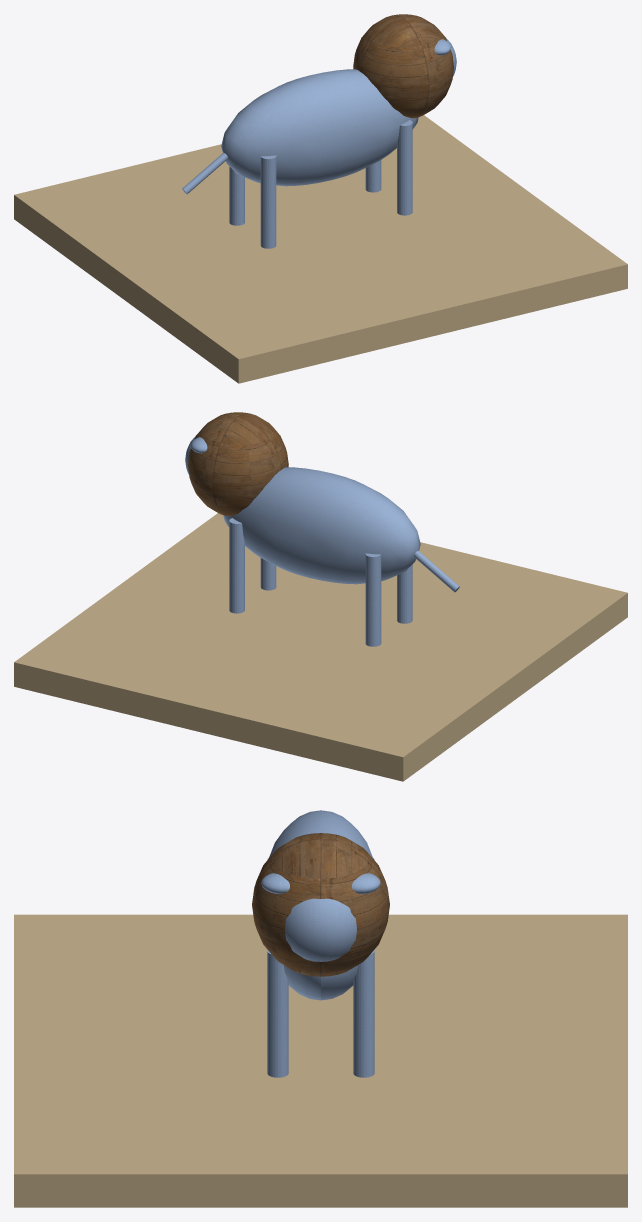
File: leao.glb
3 renders of one model, top to bottom at view 1: azimuth 30°, elevation 25°; view 2: azimuth 150°, elevation 25°; view 3: azimuth 270°, elevation 25°, orthographic. The views are drawn at different scales.
Visible parts, largest first — view 1: Base ilustrativa, Corpo, Juba, Perna.001, Perna.003, Perna; view 2: Base ilustrativa, Corpo, Juba, Perna, Perna.002, Perna.001; view 3: Base ilustrativa, Juba, Cabeça, Corpo, Perna.002, Perna.003.
Part boxes in pixels (bbox=[...]): Base ilustrativa: bbox=[14, 115, 627, 383]; Corpo: bbox=[221, 69, 418, 186]; Juba: bbox=[353, 14, 453, 118]; Perna.001: bbox=[260, 155, 276, 248]; Perna.003: bbox=[397, 120, 412, 215]; Perna: bbox=[229, 166, 244, 225]; Base ilustrativa: bbox=[14, 513, 627, 781]; Corpo: bbox=[223, 467, 420, 584]; Juba: bbox=[188, 412, 288, 516]; Perna: bbox=[365, 553, 381, 646]; Perna.002: bbox=[229, 518, 244, 613]; Perna.001: bbox=[397, 564, 412, 623]; Base ilustrativa: bbox=[14, 914, 627, 1207]; Juba: bbox=[252, 833, 389, 976]; Cabeça: bbox=[285, 898, 356, 961]; Corpo: bbox=[268, 810, 373, 1000]; Perna.002: bbox=[353, 950, 374, 1077]; Perna.003: bbox=[267, 950, 288, 1077].
Bounding box in the file's own units: 4 × 2.11 × 4.
Materials: 3 (2 with a texture image).
